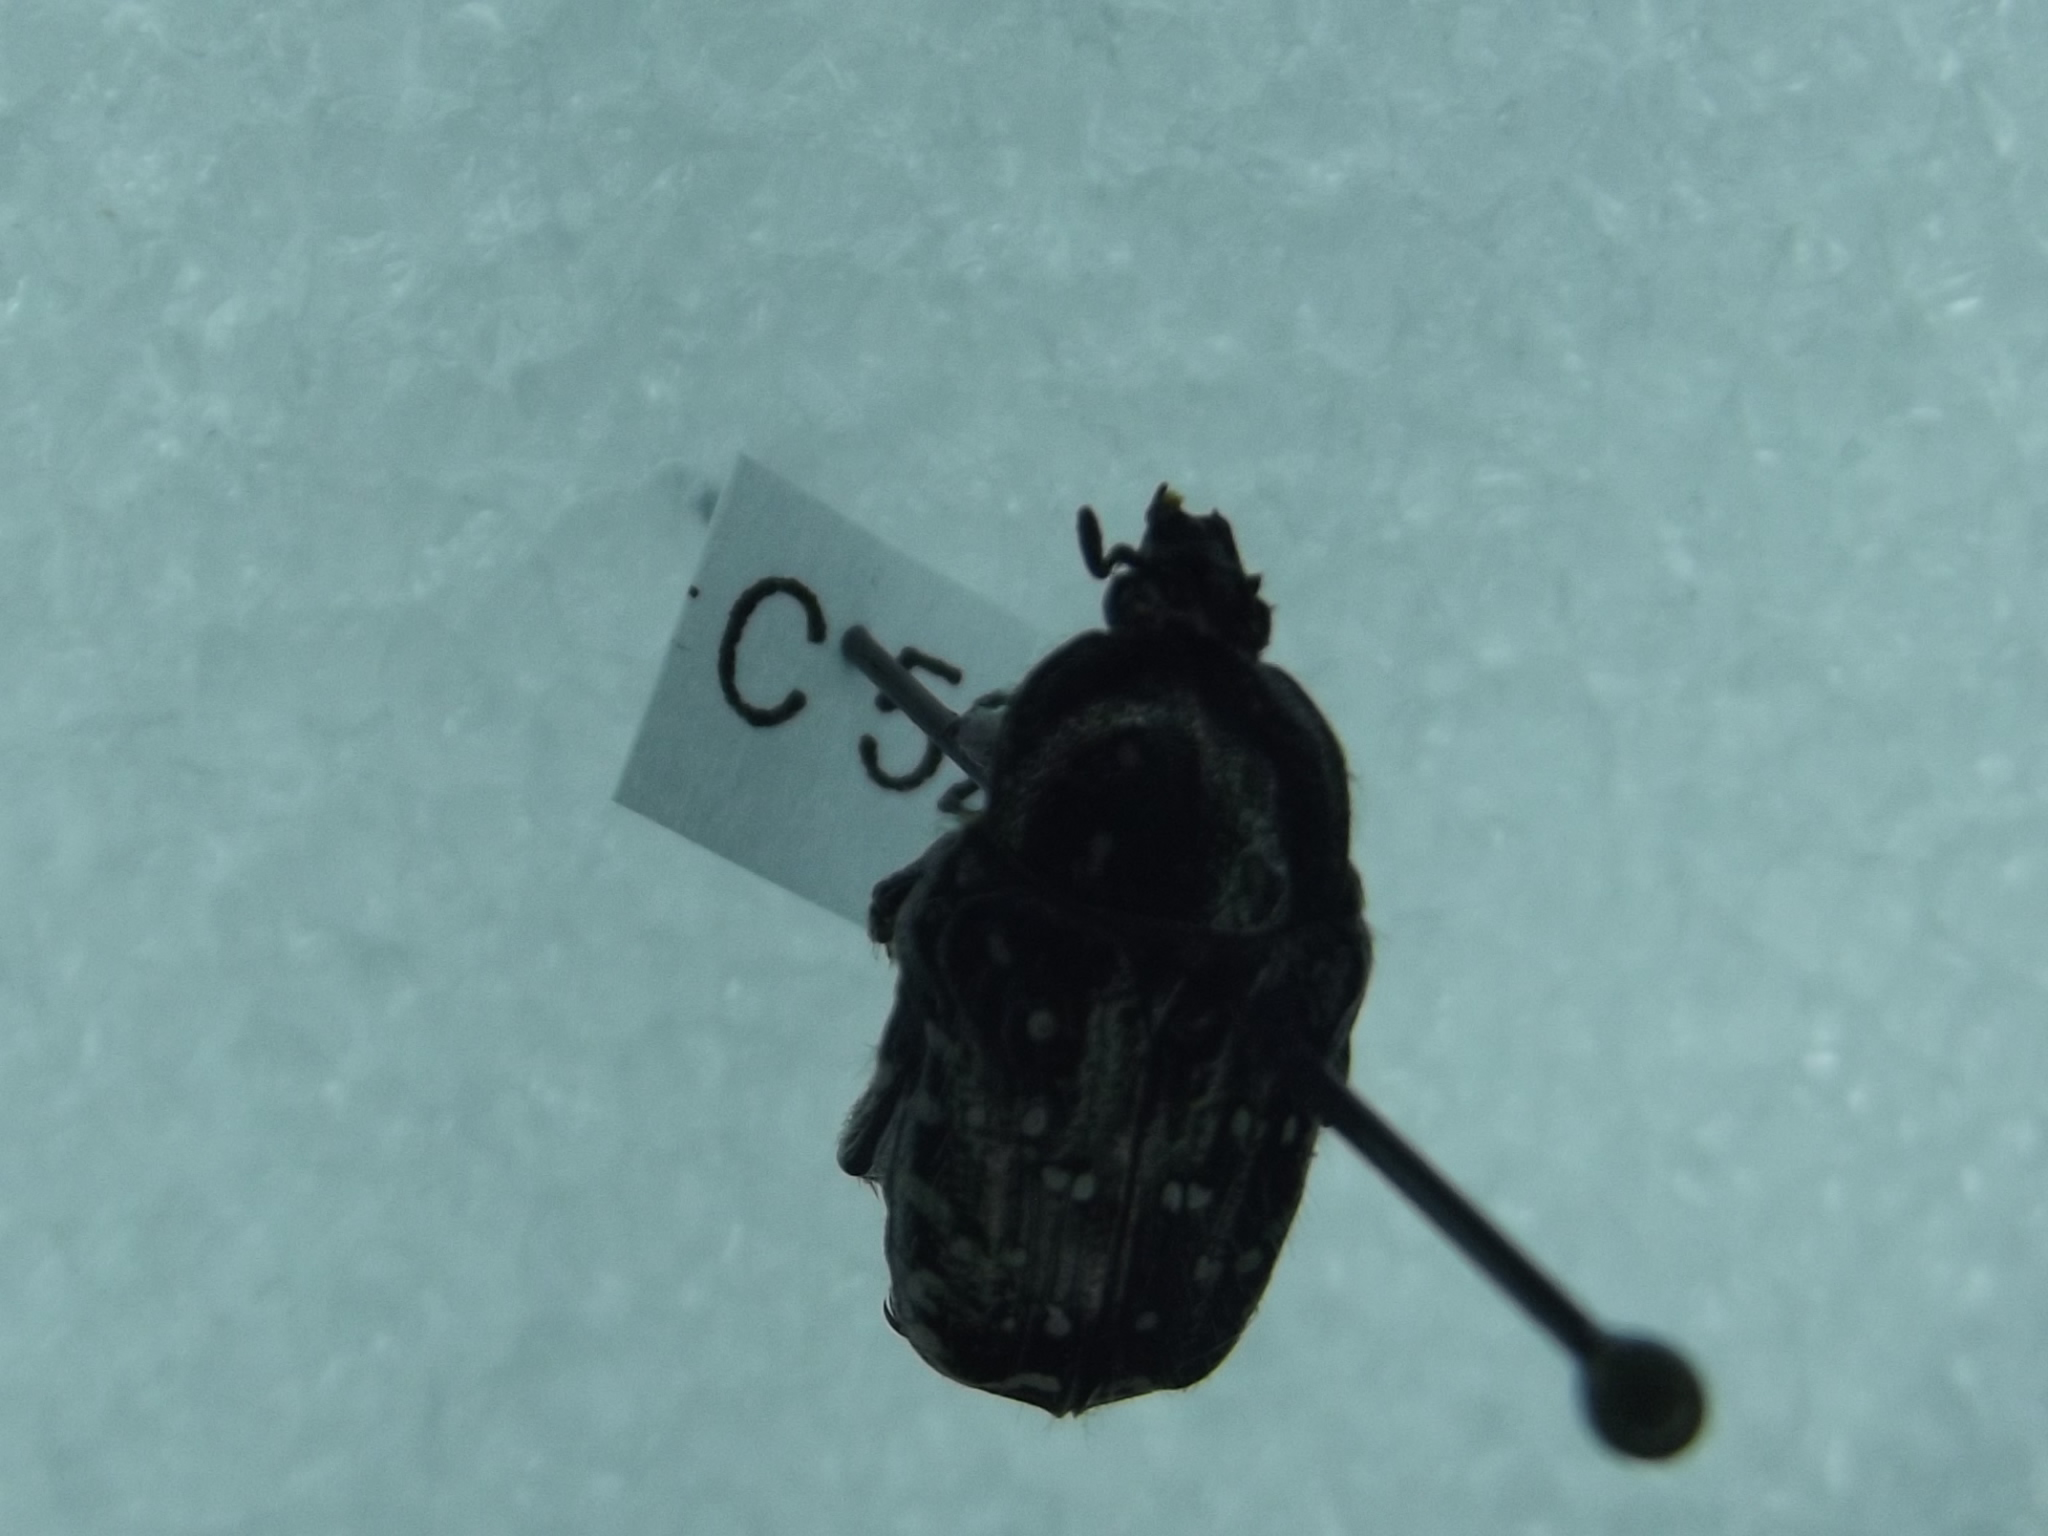Oxythyrea_funesta: (847, 463, 1388, 1426)
